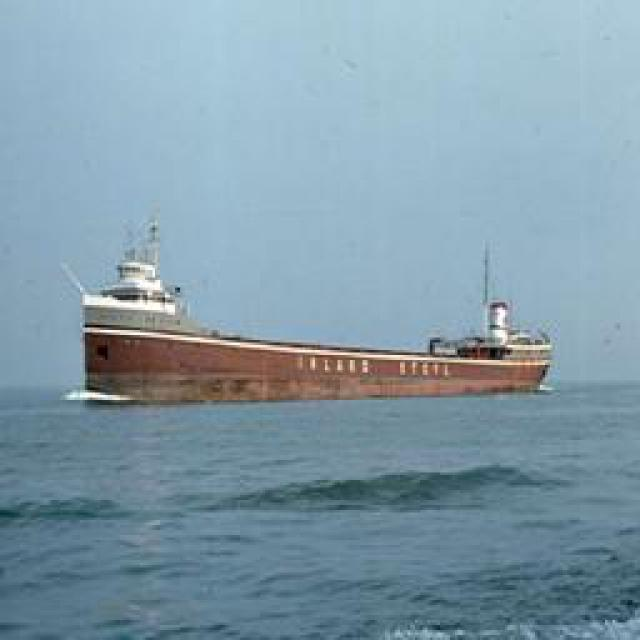Ship: (77, 214, 567, 409)
